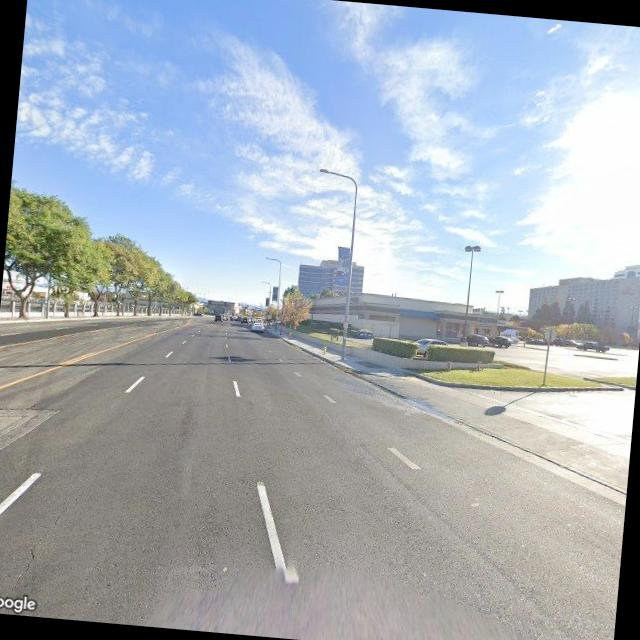pothole: (8, 436, 118, 594)
